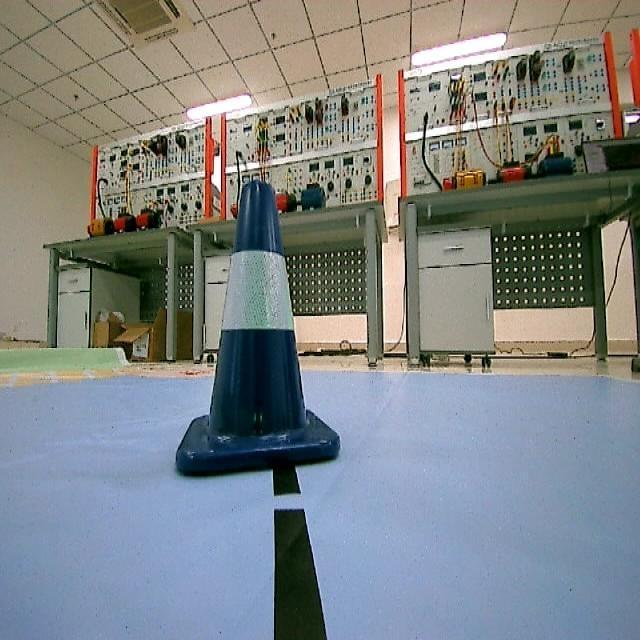obstacle: (174, 170, 348, 480)
